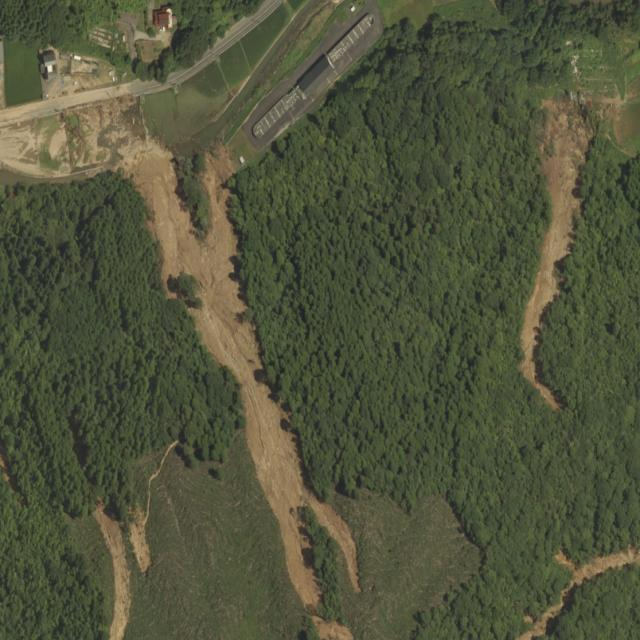landslide: (124, 137, 361, 640), (522, 98, 594, 410), (519, 548, 640, 640), (99, 516, 128, 640)
